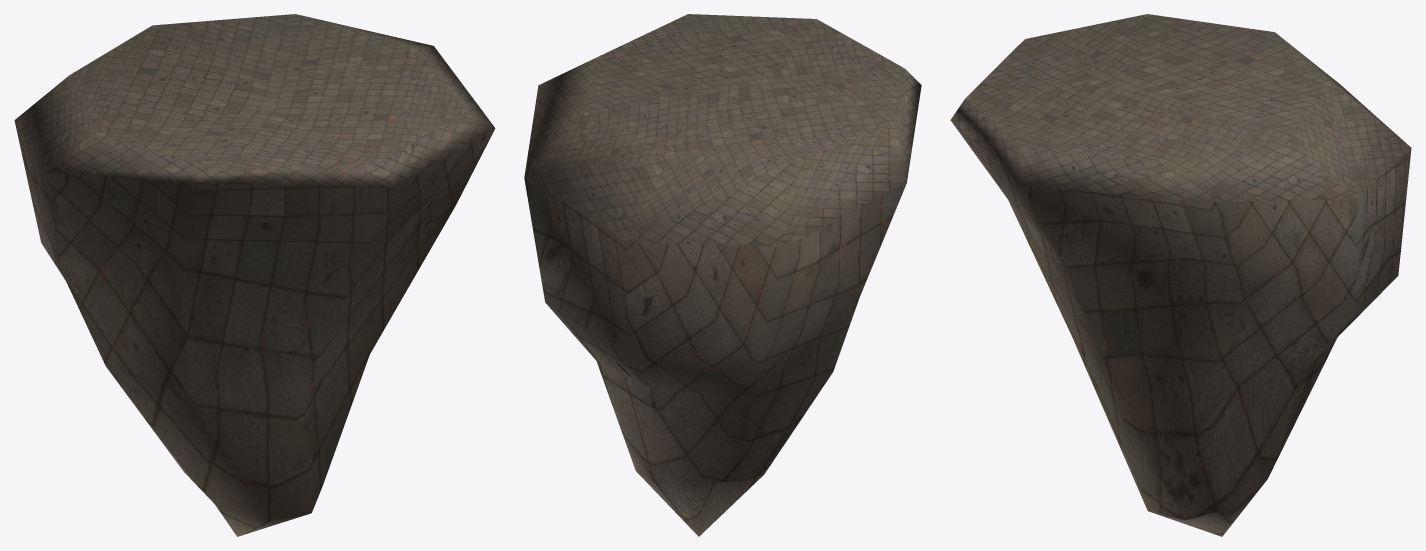
File: Rock_02_Art.fbx
3 views of the same model, side by side, from view 1: azimuth 30°, elevation 25°; view 2: azimuth 150°, elevation 25°; view 3: azimuth 270°, elevation 25° (orthographic). The views are drawn at different scales.
Parts seen in each view (by area): view 1: Rock_02; view 2: Rock_02; view 3: Rock_02.
Part boxes in pixels (<box>): Rock_02: <box>14,14,495,536</box>; Rock_02: <box>524,14,921,536</box>; Rock_02: <box>950,14,1411,536</box>.
Bounding box in the file's own units: 716 × 815 × 771.
